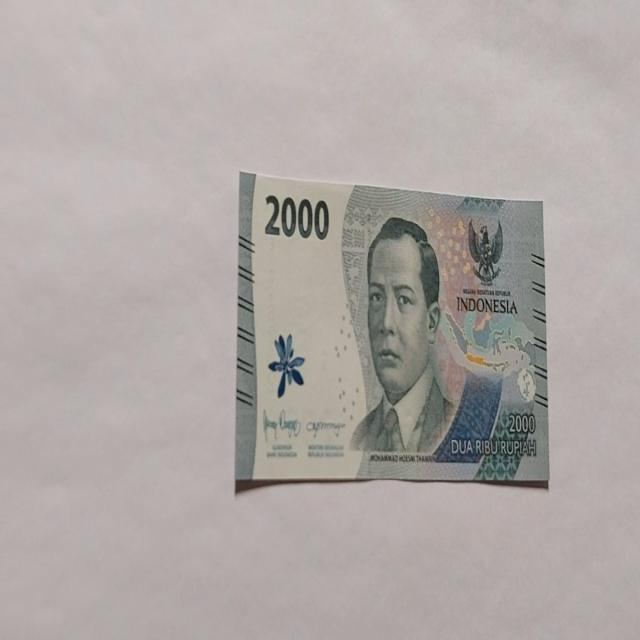dua ribu rupiah: (236, 170, 548, 490), (348, 214, 456, 468)
